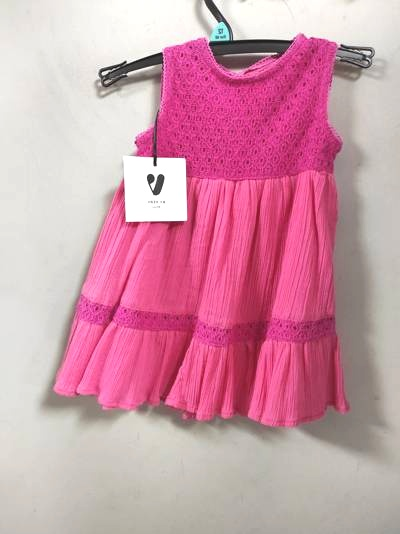Dress: (54, 17, 380, 432)
